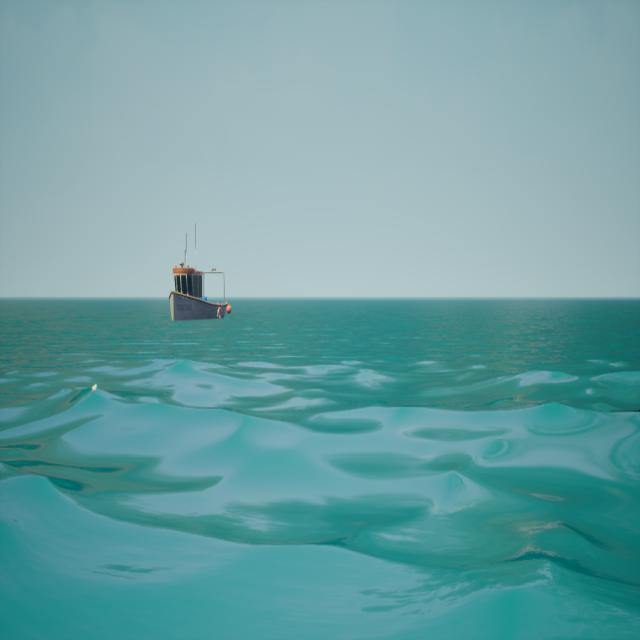ship: (162, 219, 234, 320)
